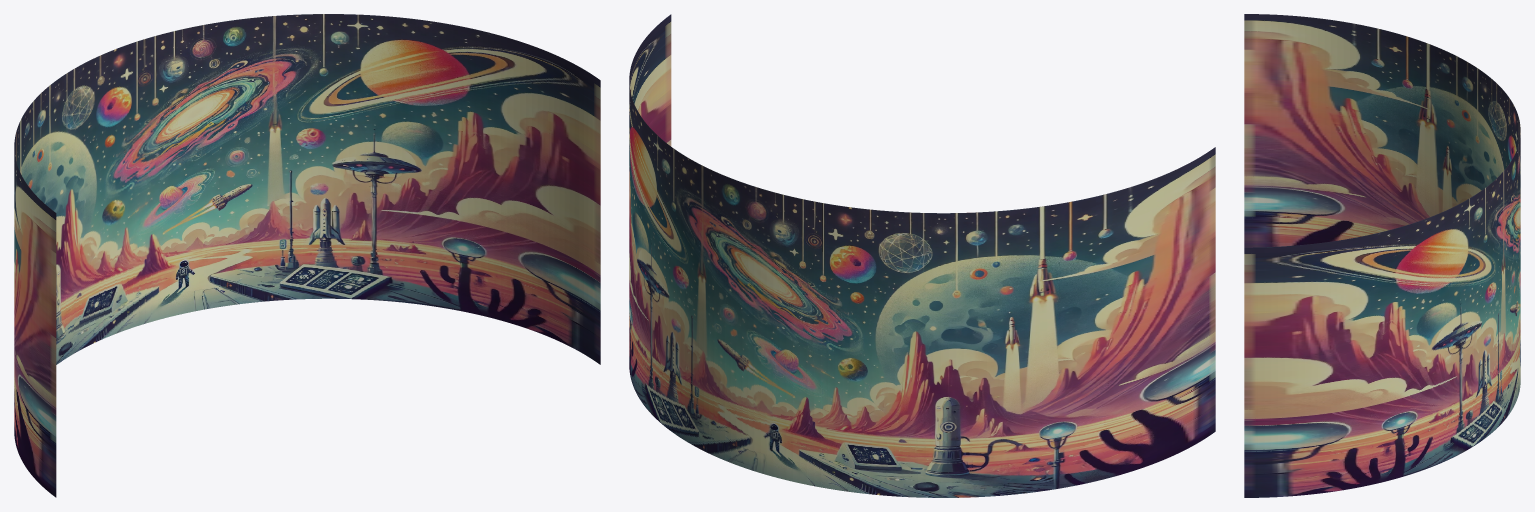
Rendered from Background_fbx_common_textured.fbx.
The picture shows the model from 3 angles, left to right: view 1: azimuth 30°, elevation 25°; view 2: azimuth 150°, elevation 25°; view 3: azimuth 270°, elevation 25°; orthographic projection. The views are drawn at different scales.
Parts seen in each view (by area): view 1: Obj; view 2: Obj; view 3: Obj.
Part boxes in pixels (left/top/right/bottom): Obj: left=14, top=14, right=600, bottom=497; Obj: left=629, top=14, right=1215, bottom=497; Obj: left=1244, top=14, right=1520, bottom=497.
Bounding box in the file's own units: 200 × 100 × 100.
1 material, 1 textured.
